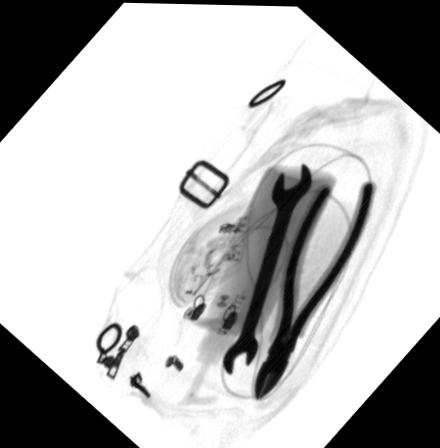Pliers: (252, 180, 378, 400)
Wrench: (221, 160, 311, 375)
